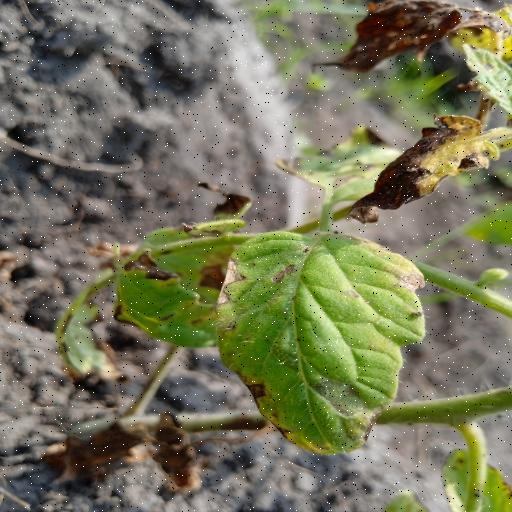Tomato_Brown_Spots: (210, 219, 436, 466)
